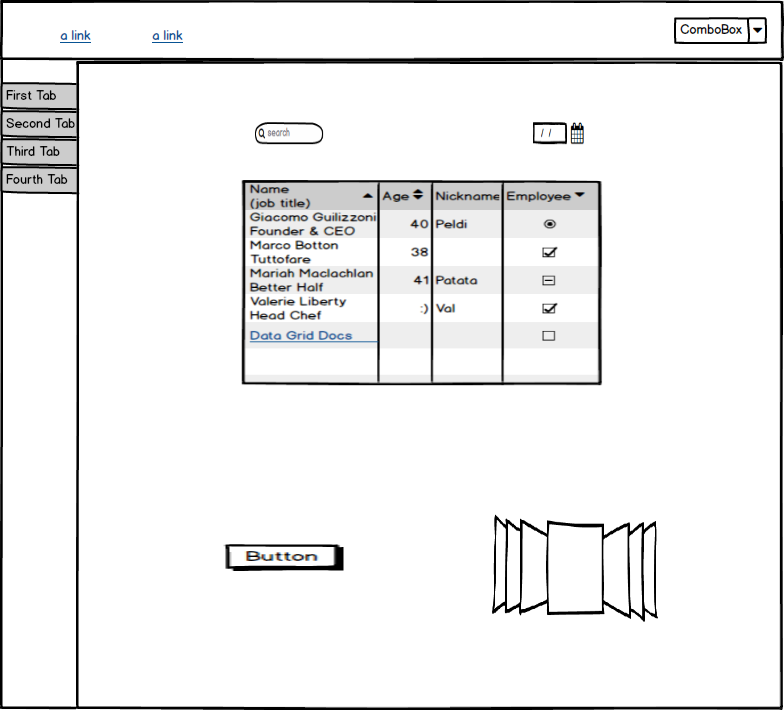button: (221, 540, 350, 573)
date_picker: (528, 116, 591, 151)
navlink: (146, 23, 187, 47), (53, 25, 97, 45)
search: (252, 114, 326, 150)
select_box: (669, 12, 769, 47)
sidebar: (1, 73, 83, 201)
slideshow: (482, 505, 667, 628)
table: (237, 174, 606, 389)
